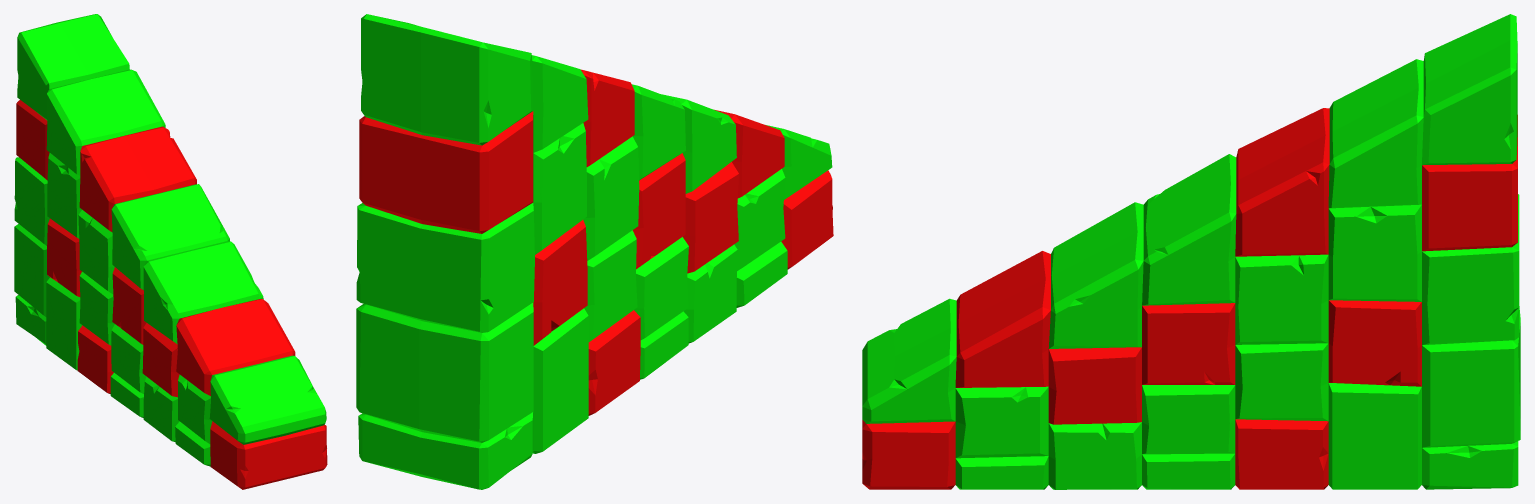
Rendered from SM_Railing_3.fbx.
The picture shows the model from 3 angles, left to right: view 1: azimuth 30°, elevation 25°; view 2: azimuth 150°, elevation 25°; view 3: azimuth 270°, elevation 25°; orthographic projection. The views are drawn at different scales.
Parts seen in each view (by area): view 1: Mesh; view 2: Mesh; view 3: Mesh.
Boxes of the visible parts, x1=… form: Mesh: x1=14, y1=14, x2=327, y2=489; Mesh: x1=356, y1=14, x2=833, y2=489; Mesh: x1=862, y1=14, x2=1520, y2=489.
Size of the model in its own units: 120 by 360 by 510.
